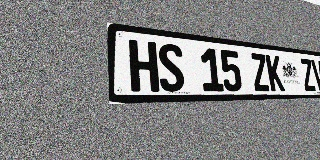1: (199, 47, 224, 92)
5: (220, 49, 243, 91)
H: (128, 39, 160, 92)
K: (265, 54, 285, 91)
S: (157, 43, 186, 92)
V: (311, 59, 320, 91)
Z: (249, 53, 270, 91), (299, 58, 317, 91)
